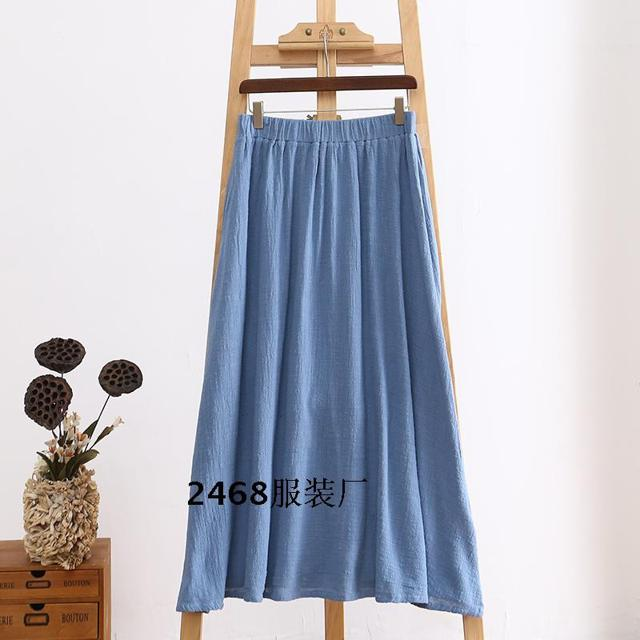Skirts: (185, 101, 485, 618)
